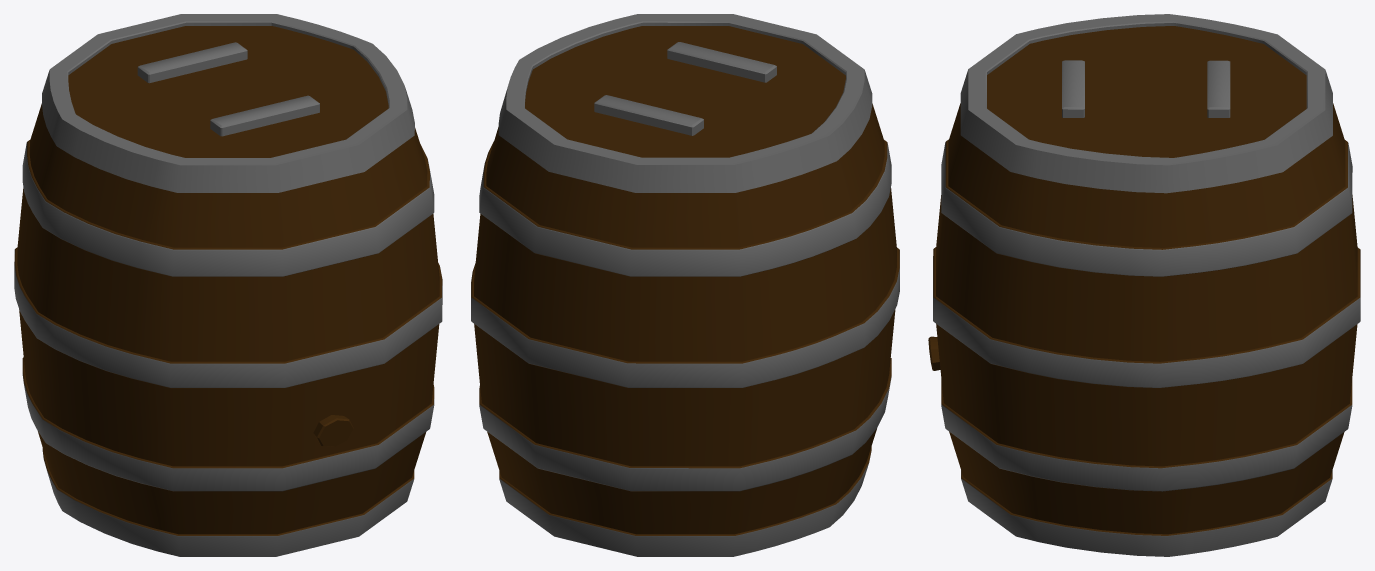
File: Barril.fbx
3 views of the same model, side by side, from view 1: azimuth 30°, elevation 25°; view 2: azimuth 150°, elevation 25°; view 3: azimuth 270°, elevation 25° (orthographic).
Visible parts, largest first — view 1: wooden_barrel; view 2: wooden_barrel; view 3: wooden_barrel.
Boxes of the visible parts, x1,y1,x2,y2 form: wooden_barrel: (14,14,442,556); wooden_barrel: (471,14,899,556); wooden_barrel: (928,14,1360,556).
Bounding box in the file's own units: 54.9 × 56.17 × 55.36.
